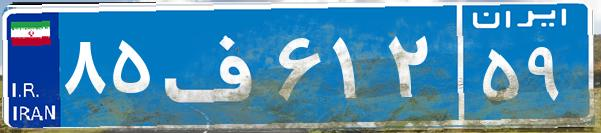1: (330, 28, 385, 110)
2: (385, 28, 445, 110)
5: (475, 38, 525, 113), (110, 28, 158, 105)
6: (273, 28, 330, 110)
8: (57, 26, 110, 107)
9: (525, 38, 570, 115)
ف: (158, 15, 273, 115)
